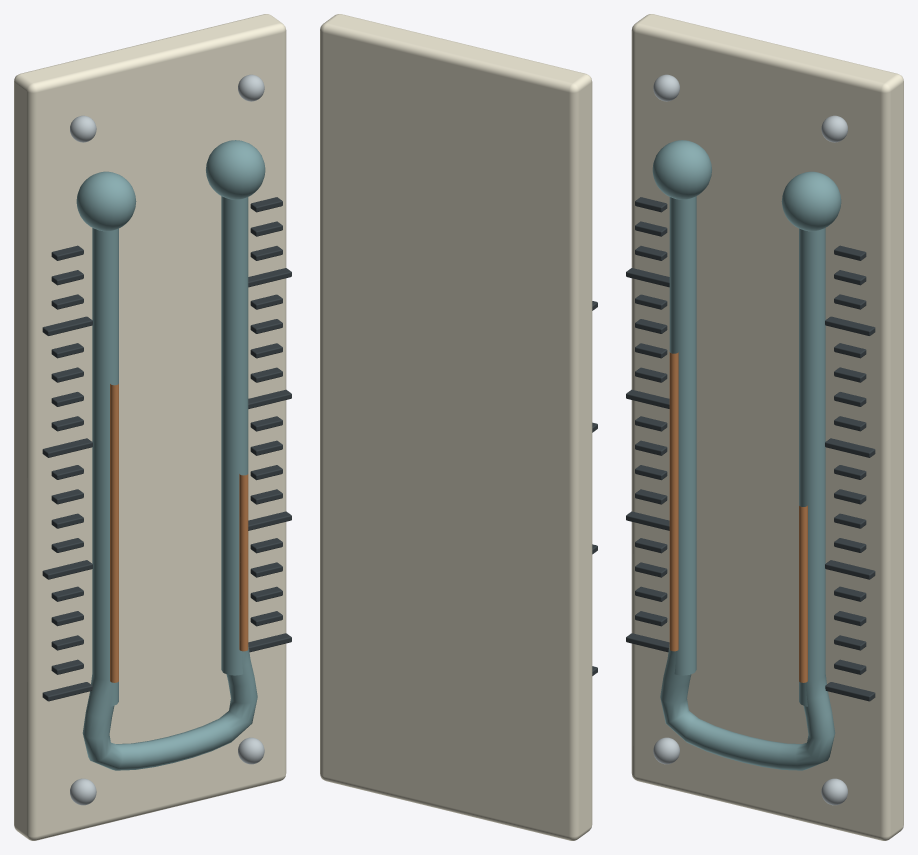
File: thermometer.glb
3 views of the same model, side by side, from view 1: azimuth 30°, elevation 25°; view 2: azimuth 150°, elevation 25°; view 3: azimuth 330°, elevation 25° (orthographic).
Visible parts, largest first — view 1: maximum-minimum-thermometer; view 2: maximum-minimum-thermometer; view 3: maximum-minimum-thermometer.
Part boxes in pixels (<box>): maximum-minimum-thermometer: <box>14,14,291,840</box>; maximum-minimum-thermometer: <box>320,14,597,840</box>; maximum-minimum-thermometer: <box>626,14,903,840</box>.
Bounding box in the file's own units: 0.2 × 0.56 × 0.061.
